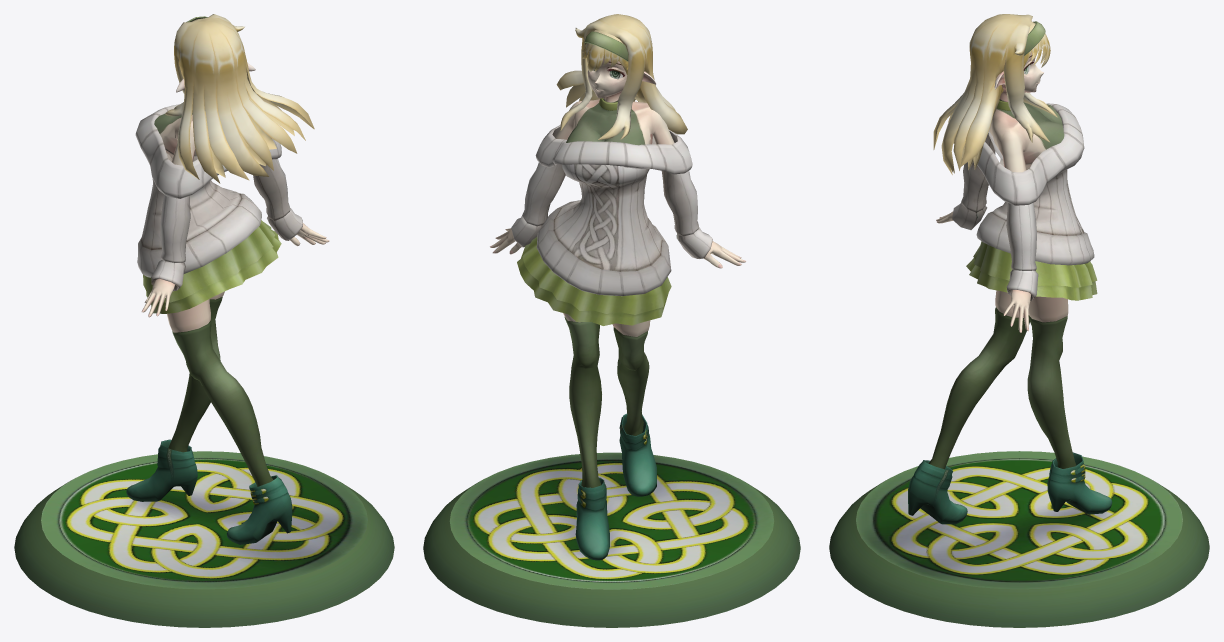
File: elfgirl.glb
The picture shows the model from 3 angles, left to right: view 1: azimuth 30°, elevation 25°; view 2: azimuth 150°, elevation 25°; view 3: azimuth 270°, elevation 25°; orthographic projection.
Parts seen in each view (by area): view 1: Object_8.001, Object_5.001, Object_7.001, Object_4.001, Object_6.001; view 2: Object_8.001, Object_5.001, Object_7.001, Object_4.001, Object_6.001, Object_3.001; view 3: Object_8.001, Object_5.001, Object_7.001, Object_6.001, Object_4.001, Object_3.001.
Boxes of the visible parts, box(x1,y1,x2,y2) form: Object_8.001: box(14, 451, 394, 627); Object_5.001: box(126, 113, 329, 544); Object_7.001: box(165, 14, 314, 183); Object_4.001: box(143, 220, 281, 313); Object_6.001: box(135, 104, 281, 198); Object_8.001: box(423, 452, 800, 627); Object_5.001: box(490, 91, 746, 560); Object_7.001: box(556, 14, 687, 139); Object_4.001: box(517, 237, 671, 325); Object_6.001: box(535, 125, 692, 174); Object_3.001: box(587, 51, 656, 98); Object_8.001: box(829, 451, 1209, 627); Object_5.001: box(908, 88, 1112, 524); Object_7.001: box(933, 14, 1057, 174); Object_6.001: box(977, 103, 1084, 300); Object_4.001: box(966, 241, 1097, 300); Object_3.001: box(994, 51, 1043, 92).
Size of the model in its own units: 1.68 by 2.6 by 1.68.
4 materials, 4 textured.
